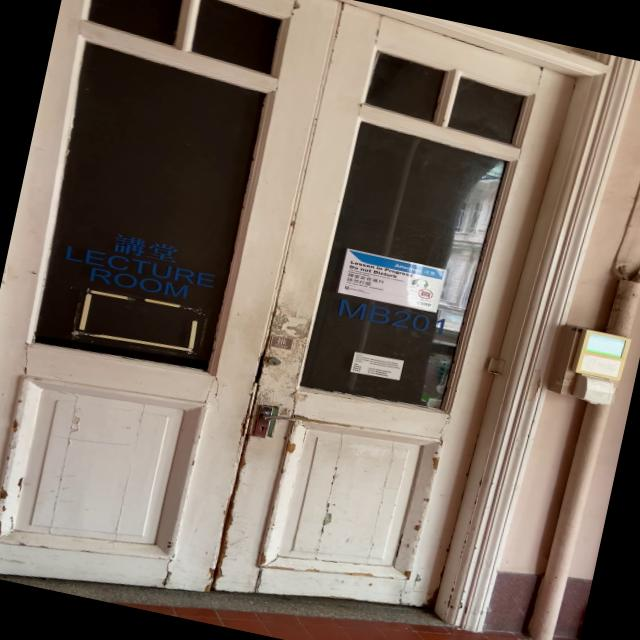room201Window: (329, 293, 452, 341)
